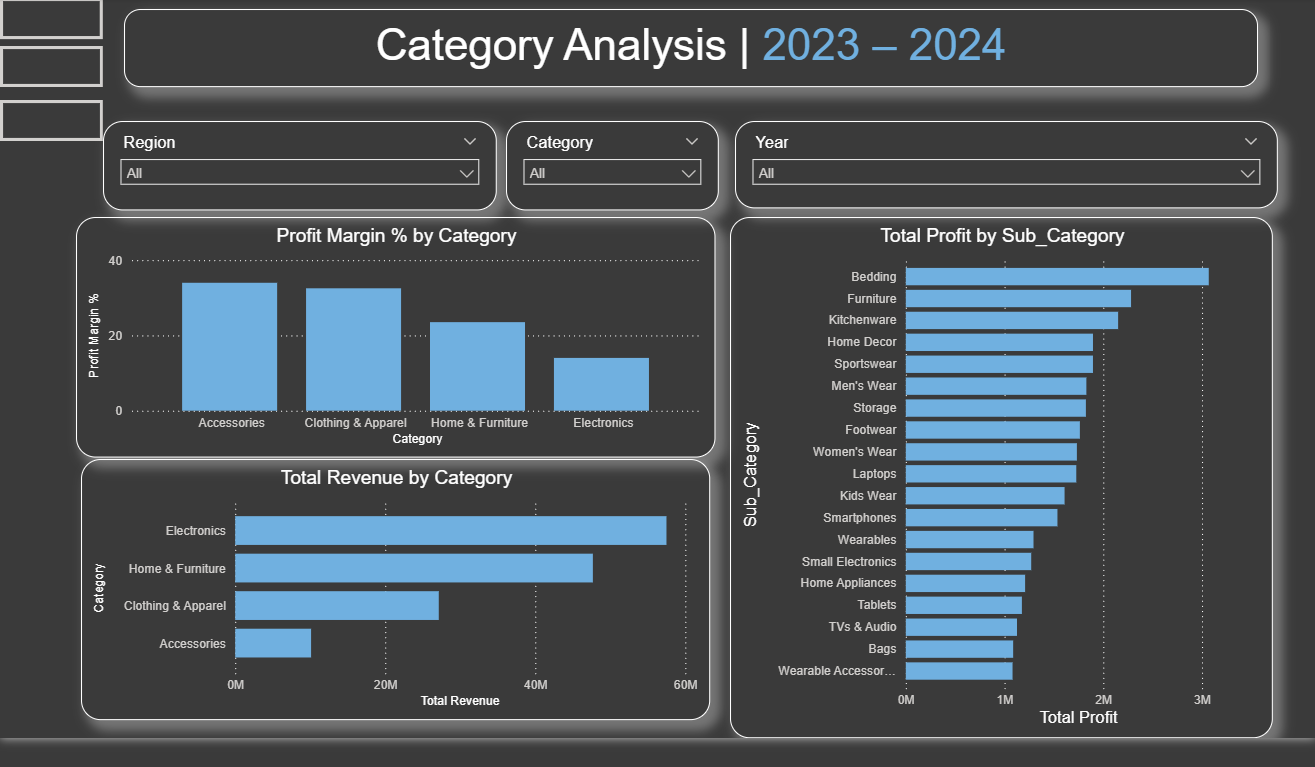

Layout of this report page (visuals, bound fields, positions):
{"tool":"powerbi","page":{"name":"Category Analysis","canvas":[1280,720],"ordinal":1},"visuals":[{"type":"actionButton","box":[0,0,100,40],"z":0},{"type":"actionButton","box":[0,99.2,100.2,39.9],"z":1000},{"type":"actionButton","box":[0,46.7,100.2,39.9],"z":2000},{"type":"barChart","fields":{"Category":["product_sales_dataset_final.Category"],"Y":["product_sales_dataset_final.Total Revenue"]},"box":[78.8,448.4,611.8,253.9],"z":3000},{"type":"clusteredBarChart","fields":{"Category":["product_sales_dataset_final.Sub_Category"],"Y":["product_sales_dataset_final.Total Profit"]},"box":[710,213,528.1,506.7],"z":4000},{"type":"clusteredColumnChart","fields":{"Category":["product_sales_dataset_final.Category"],"Y":["product_sales_dataset_final.Profit Margin %"]},"box":[73.9,213,621.5,234.4],"z":5000},{"type":"slicer","fields":{"Values":["product_sales_dataset_final.Region"]},"box":[100.2,119.6,383.2,86.6],"z":6000},{"type":"slicer","fields":{"Values":["product_sales_dataset_final.Category"]},"box":[492.2,119.6,207.2,86.6],"z":7000},{"type":"slicer","fields":{"Values":["DateTable.Year"]},"box":[714.9,119.6,528.1,84.6],"z":8000},{"type":"textbox","box":[120.6,10.7,1103,75.9],"z":9000}]}

Visuals, with their boxes in screenshot pixels (x1, y1, x2, y2):
actionButton: {"left": 14, "top": 0, "right": 115, "bottom": 37}
actionButton: {"left": 14, "top": 97, "right": 115, "bottom": 138}
actionButton: {"left": 14, "top": 44, "right": 115, "bottom": 84}
barChart - product_sales_dataset_final.Category x product_sales_dataset_final.Total Revenue: {"left": 94, "top": 451, "right": 713, "bottom": 708}
clusteredBarChart - product_sales_dataset_final.Sub_Category x product_sales_dataset_final.Total Profit: {"left": 733, "top": 212, "right": 1268, "bottom": 726}
clusteredColumnChart - product_sales_dataset_final.Category x product_sales_dataset_final.Profit Margin %: {"left": 89, "top": 212, "right": 718, "bottom": 450}
slicer - product_sales_dataset_final.Region: {"left": 115, "top": 118, "right": 503, "bottom": 205}
slicer - product_sales_dataset_final.Category: {"left": 512, "top": 118, "right": 722, "bottom": 205}
slicer - DateTable.Year: {"left": 738, "top": 118, "right": 1273, "bottom": 203}
textbox: {"left": 136, "top": 7, "right": 1253, "bottom": 84}
